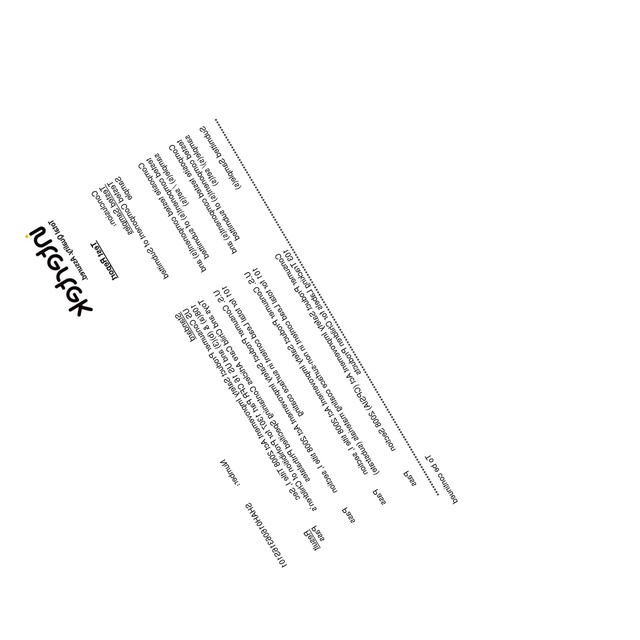intertek: (22, 225, 95, 318)
